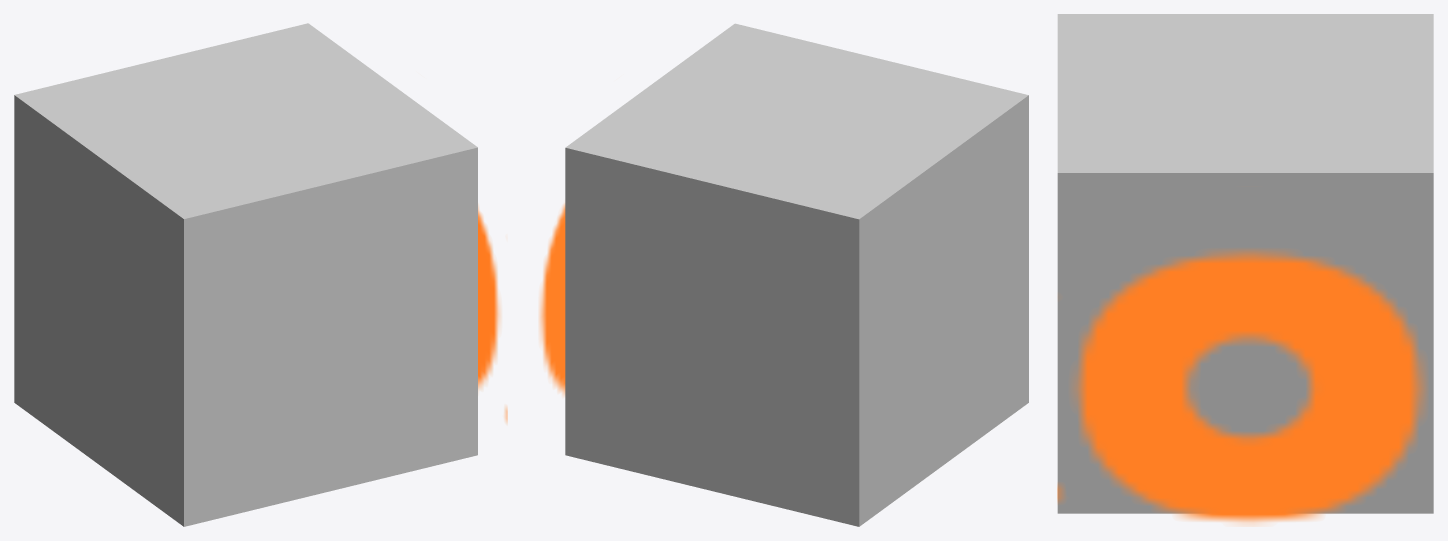
3 views of the same model, side by side, from view 1: azimuth 30°, elevation 25°; view 2: azimuth 150°, elevation 25°; view 3: azimuth 270°, elevation 25° (orthographic). The views are drawn at different scales.
Visible parts, largest first — view 1: Cube.016, o.001; view 2: Cube.016, o.001; view 3: Cube.016, o.001.
Part boxes in pixels (x1,y1,x2,y2): Cube.016: (14, 23, 477, 526); o.001: (478, 206, 507, 422); Cube.016: (565, 23, 1028, 526); o.001: (539, 204, 565, 395); Cube.016: (1057, 14, 1433, 513); o.001: (1057, 249, 1425, 524).
Size of the model in its own units: 3.3 by 3.02 by 3.
1 material, 1 textured.
